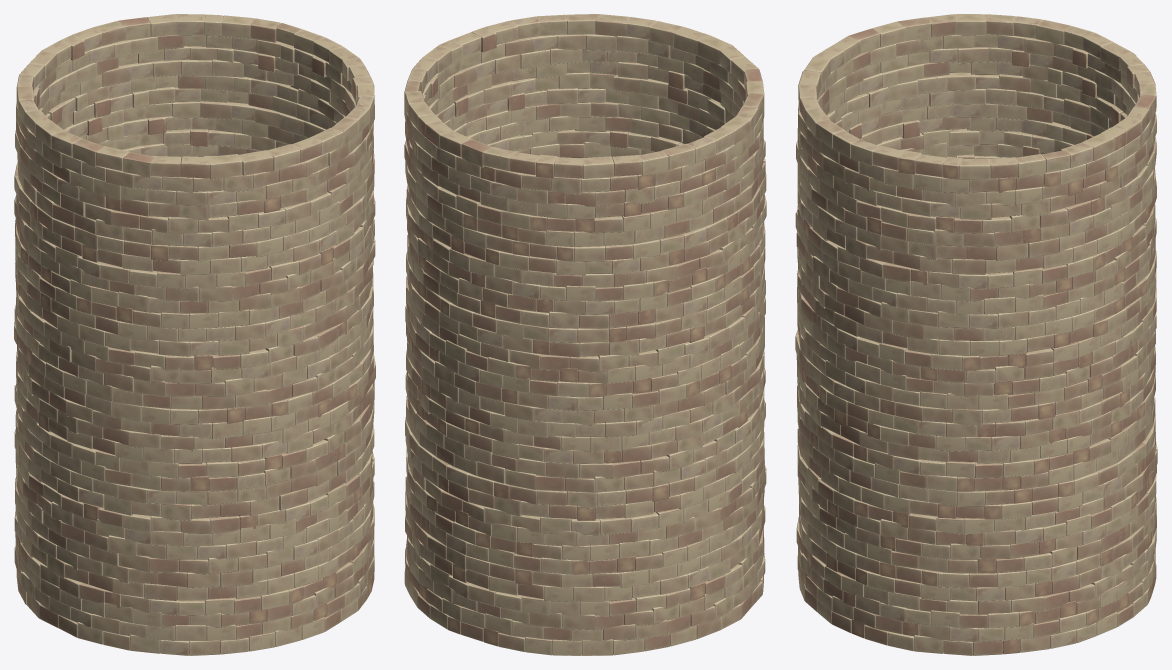
The model's file is towerwalls.fbx.
3 views of the same model, side by side, from view 1: azimuth 30°, elevation 25°; view 2: azimuth 150°, elevation 25°; view 3: azimuth 270°, elevation 25° (orthographic).
Parts seen in each view (by area): view 1: towerwalls_LOD0; view 2: towerwalls_LOD0; view 3: towerwalls_LOD0.
Part boxes in pixels (left/top/right/bottom): towerwalls_LOD0: left=14, top=14, right=375, bottom=655; towerwalls_LOD0: left=404, top=14, right=766, bottom=655; towerwalls_LOD0: left=795, top=14, right=1157, bottom=655.
Size of the model in its own units: 5.93 by 8.92 by 5.94.
